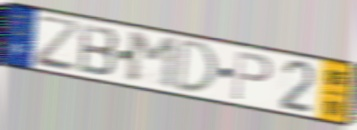2: (279, 59, 316, 116)
B: (77, 21, 121, 78)
D: (173, 37, 220, 96)
M: (127, 30, 179, 92)
P: (230, 49, 274, 103)
Z: (36, 14, 81, 75)
